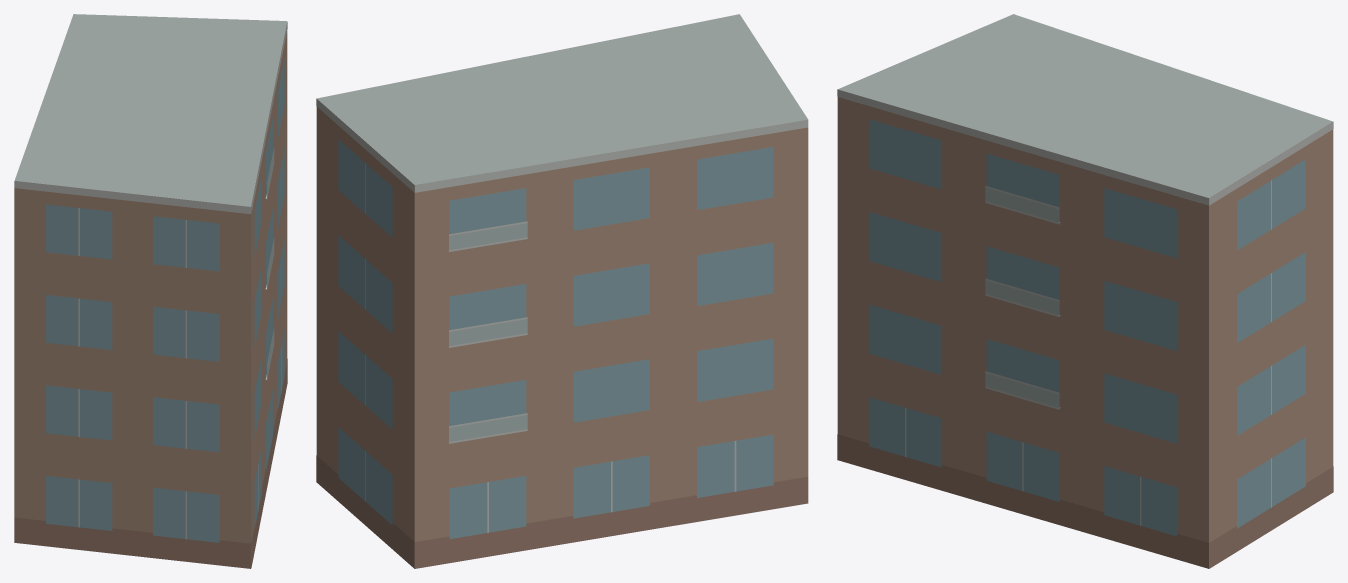
The model's file is survey-upis-32773150.glb.
3 renders of one model, left to right at view 1: azimuth 30°, elevation 25°; view 2: azimuth 150°, elevation 25°; view 3: azimuth 270°, elevation 25°, orthographic. The views are drawn at different scales.
Visible parts, largest first — view 1: survey-upis-32773150.tmp; view 2: survey-upis-32773150.tmp; view 3: survey-upis-32773150.tmp.
Boxes of the visible parts, <box> form: survey-upis-32773150.tmp: <box>14,14,287,568</box>; survey-upis-32773150.tmp: <box>316,14,808,568</box>; survey-upis-32773150.tmp: <box>837,14,1333,568</box>.
Bounding box in the file's own units: 12.96 × 12.15 × 14.74.
